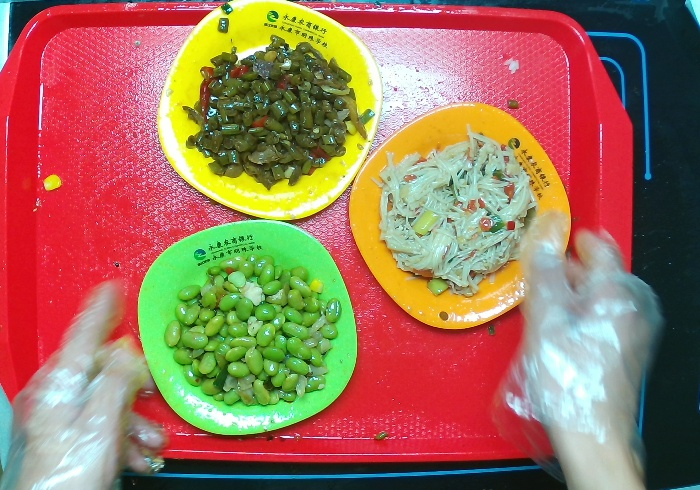YKMZ-Huang_Se_Fang_Die: (154, 1, 389, 225)
YKMZ-Ju_Se_Fang_Die: (343, 98, 578, 336)
YKMZ-Lv_Se_Fang_Die: (131, 216, 362, 441)
